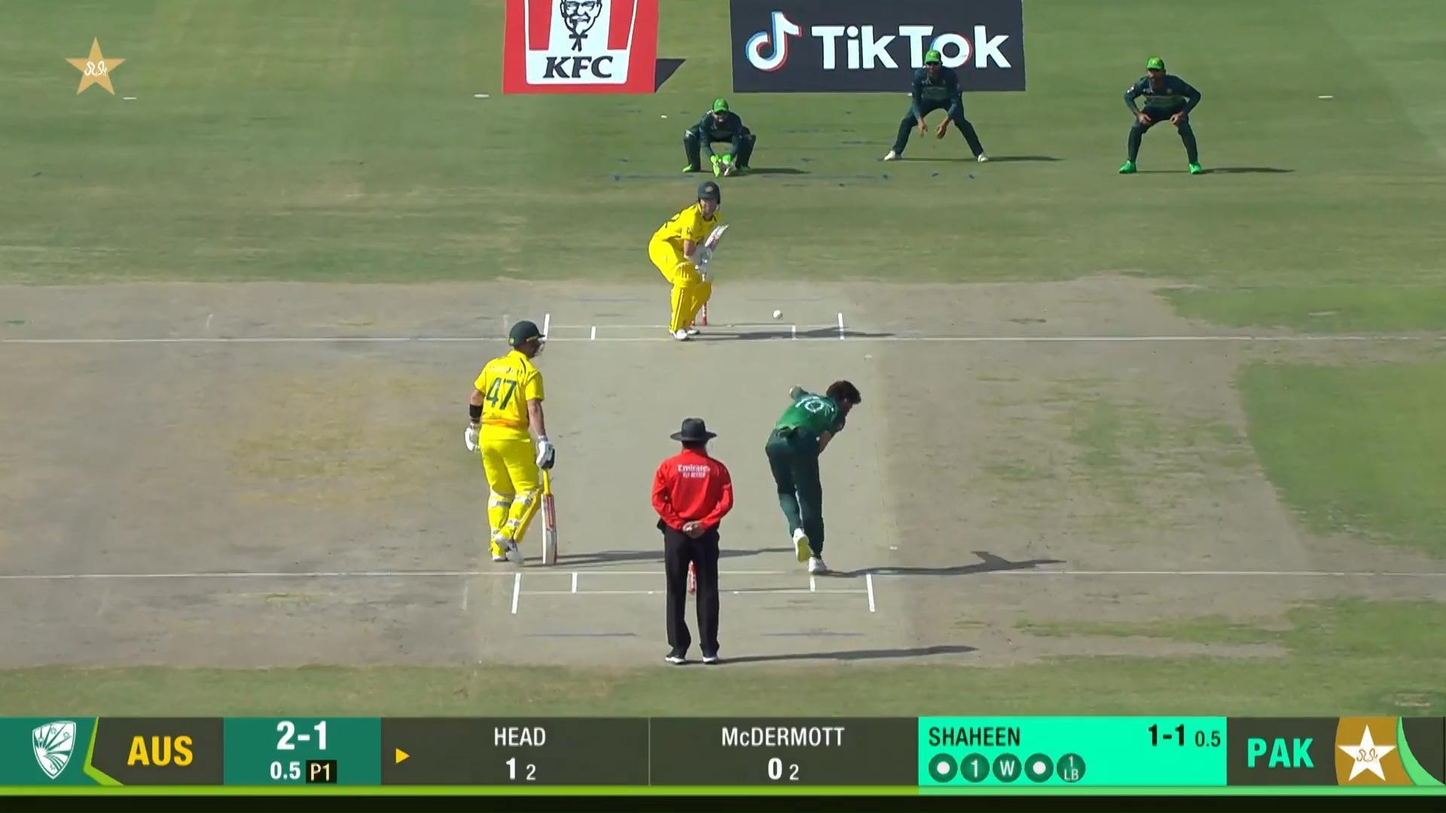BM 1: (648, 181, 729, 340)
BO: (762, 378, 865, 575)
